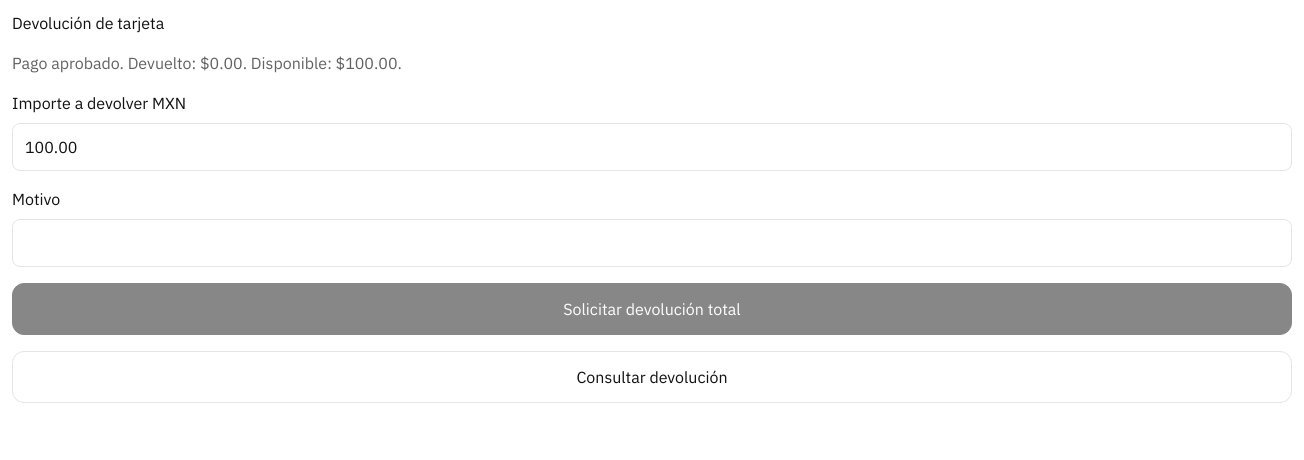
Test: a definitive rejected partial refund releases its request and leaves the original paid balance available
Replace the text in the field labelled "Importe a devolver MXN" with "20.00" at x=652, y=147, box [12, 123, 1292, 171]
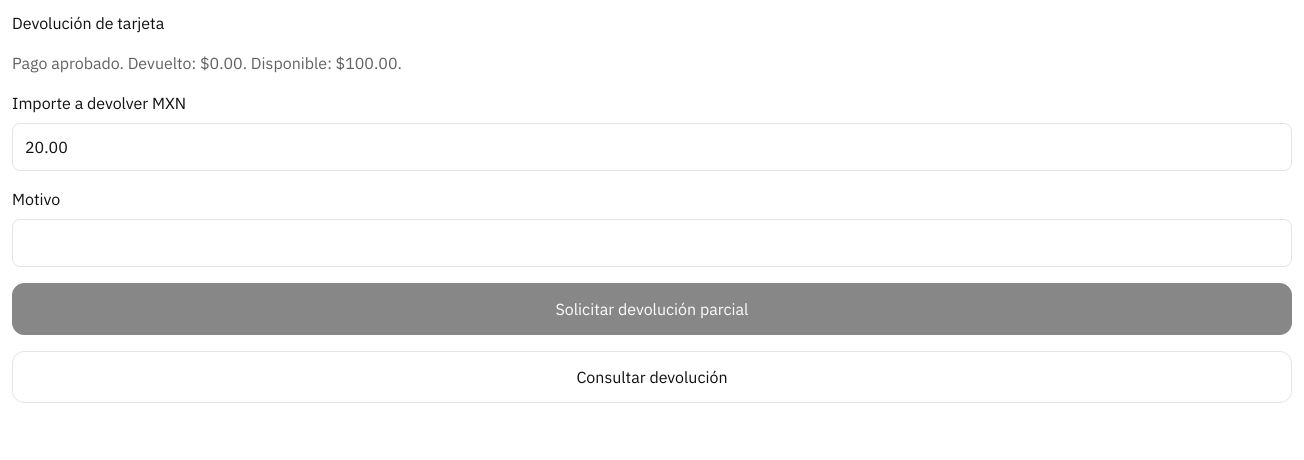
Type "Corrección" into the field labelled "Motivo" at x=652, y=243, box [12, 219, 1292, 267]
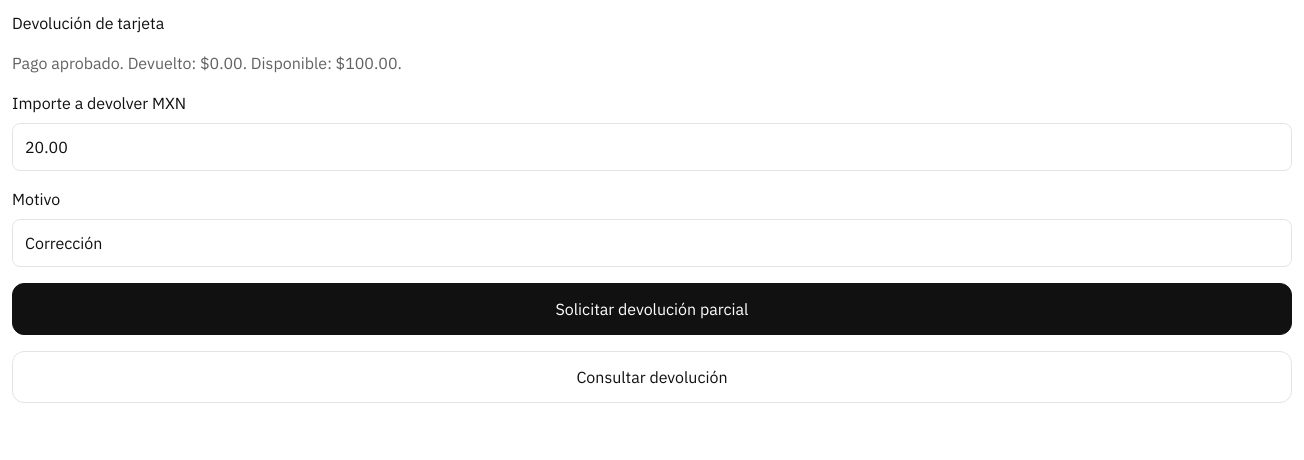
Click the button "Solicitar devolución parcial" at x=652, y=309, box [12, 283, 1292, 335]
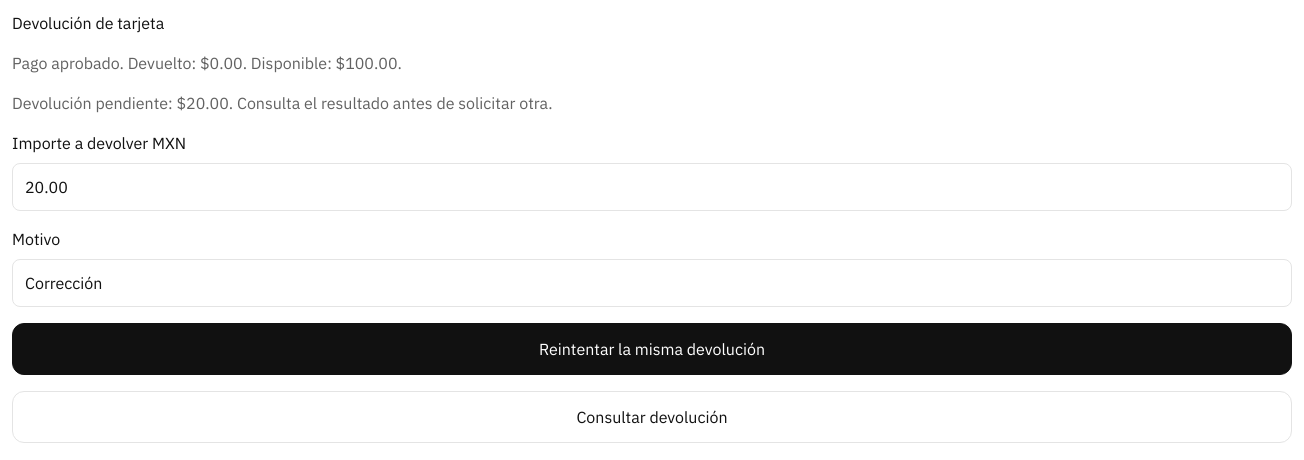
Now the text "Devolución pendiente: $20.00. Consulta el resultado antes de solicitar otra." is shown, box [12, 93, 553, 113]
Click the button "Consultar devolución" at x=652, y=417, box [12, 391, 1292, 443]
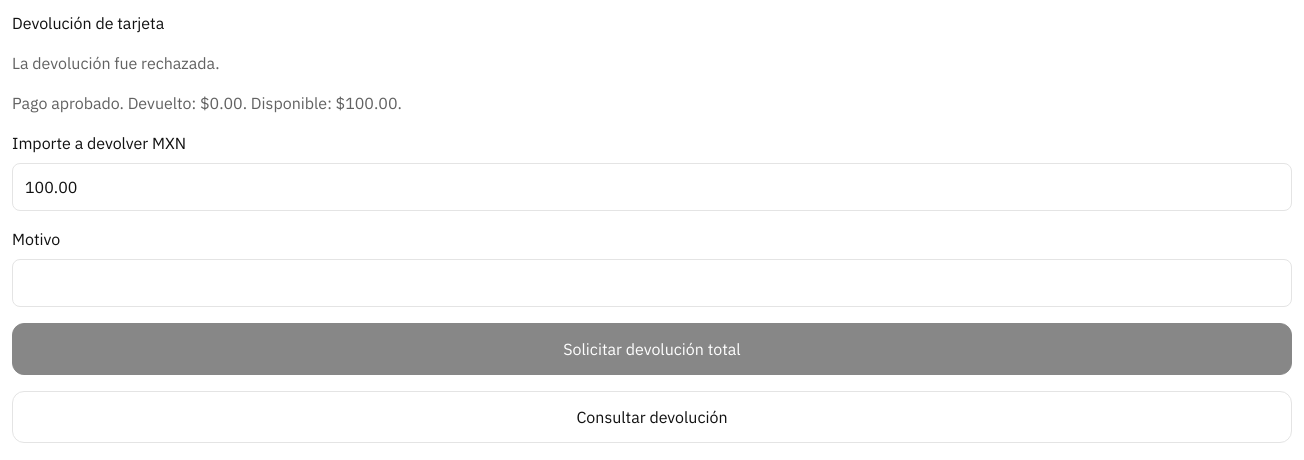
Now the message "La devolución fue rechazada." is shown, box [12, 53, 220, 73]
Now the text "Devolución pendiente:" is gone
Now the button "Reintentar la misma devolución" is gone
Type "Devolución total" into the field labelled "Motivo" at x=652, y=283, box [12, 259, 1292, 307]
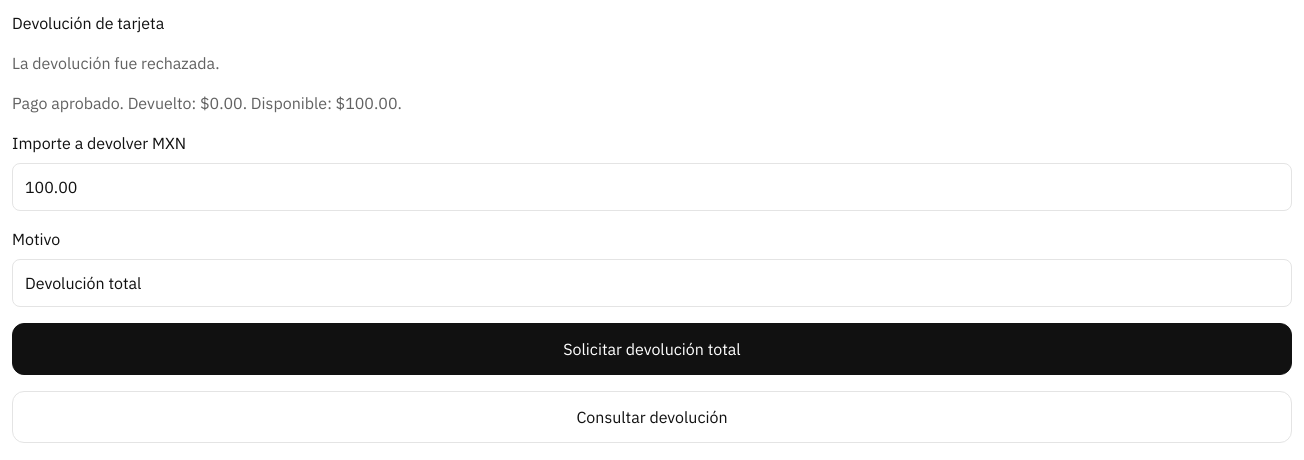
Now the button "Solicitar devolución total" is enabled, box [12, 323, 1292, 375]
